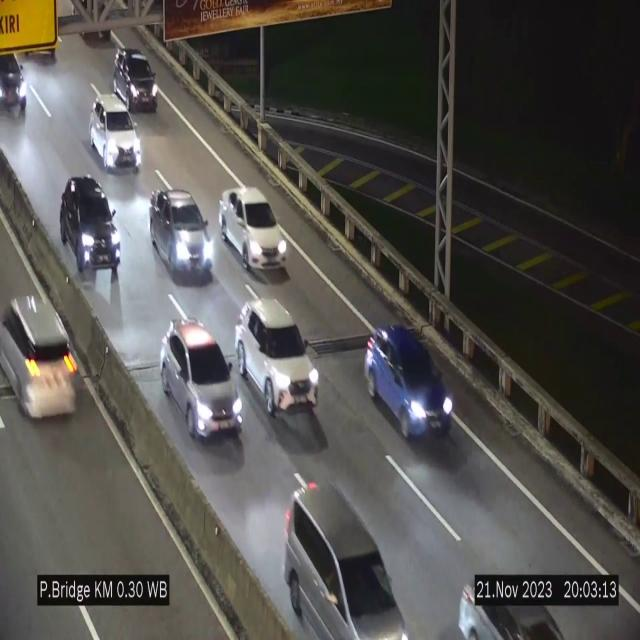Car: (277, 474, 404, 640), (0, 266, 86, 435), (450, 559, 584, 640), (234, 299, 320, 417), (364, 325, 453, 439), (161, 320, 243, 438), (62, 166, 118, 284), (218, 187, 288, 272), (150, 191, 214, 281), (90, 95, 142, 171), (114, 48, 158, 113), (0, 44, 36, 118)
